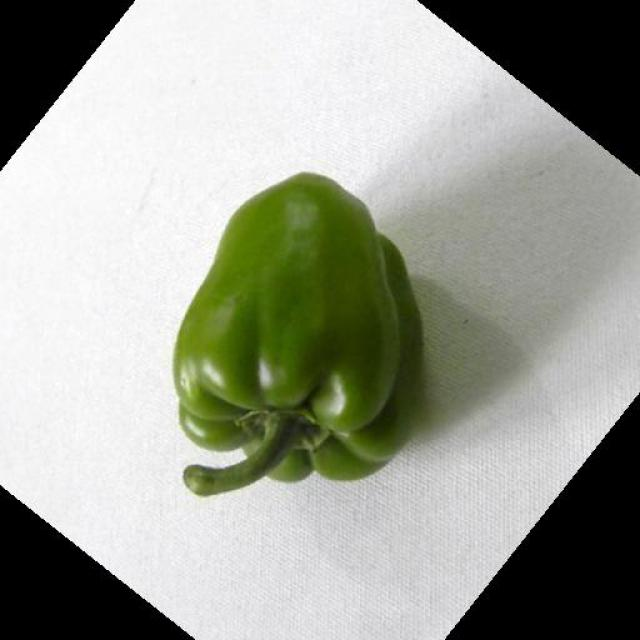Fresh_Capsicum: (174, 172, 434, 466)
